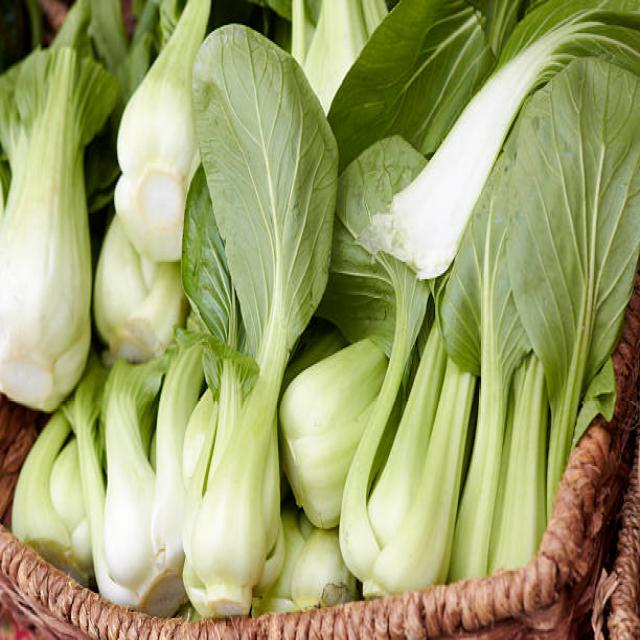bok choy: (190, 45, 276, 598), (458, 119, 566, 557), (353, 139, 449, 576), (0, 20, 89, 427), (109, 7, 175, 243)
